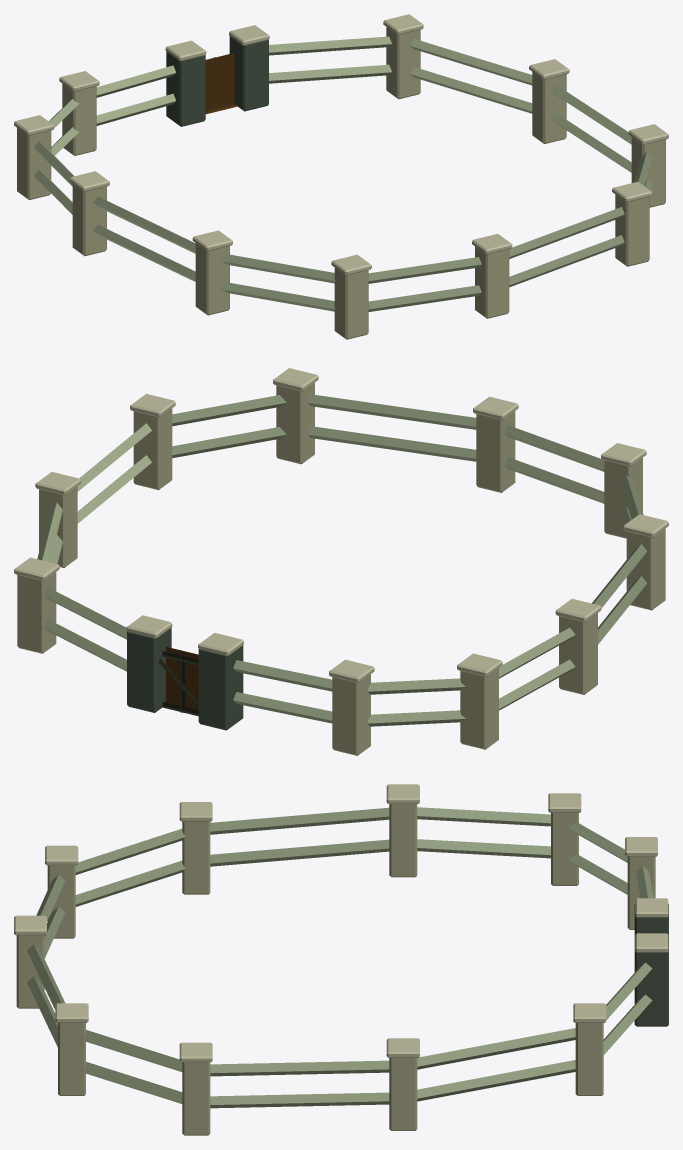
Rendered from SM_Enclosure.fbx.
3 renders of one model, top to bottom at view 1: azimuth 30°, elevation 25°; view 2: azimuth 150°, elevation 25°; view 3: azimuth 270°, elevation 25°, orthographic. The views are drawn at different scales.
Parts seen in each view (by area): view 1: SM_Enclosure • FBX; view 2: SM_Enclosure • FBX; view 3: SM_Enclosure • FBX.
Part boxes in pixels (x1,y1,x2,y2): SM_Enclosure • FBX: (14,14,668,339); SM_Enclosure • FBX: (14,368,668,755); SM_Enclosure • FBX: (14,784,668,1135).
Size of the model in its own units: 3122 by 3163 by 428.
